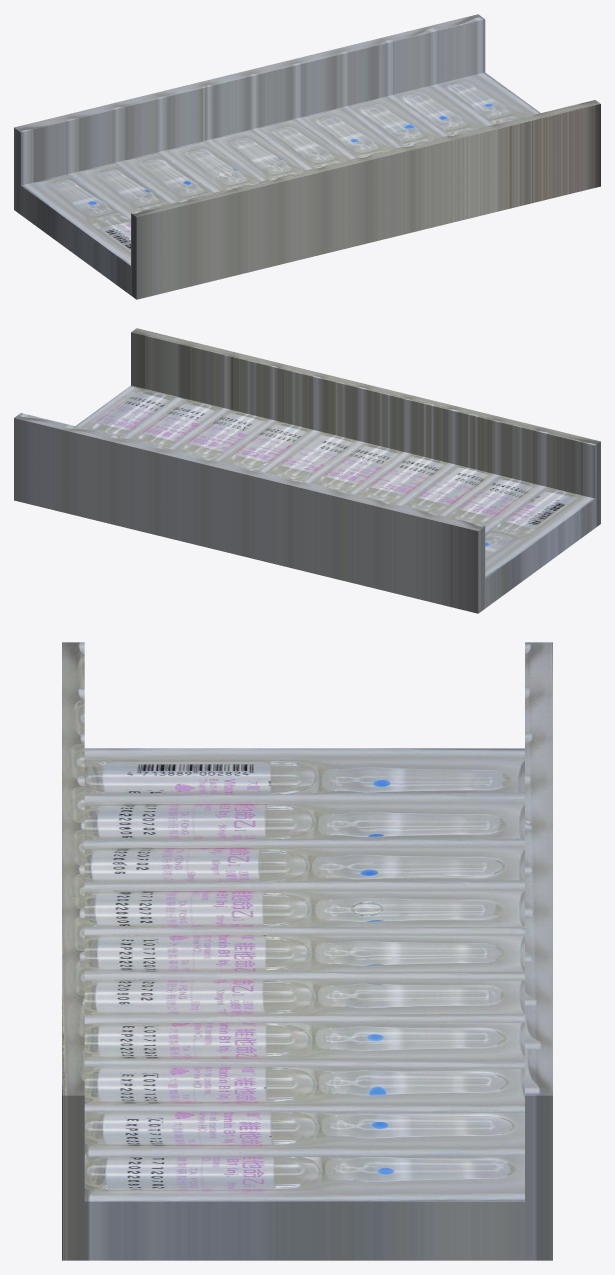
The picture shows the model from 3 angles, top to bottom: view 1: azimuth 30°, elevation 25°; view 2: azimuth 150°, elevation 25°; view 3: azimuth 270°, elevation 25°; orthographic projection. The views are drawn at different scales.
Parts seen in each view (by area): view 1: 立方體; view 2: 立方體; view 3: 立方體.
Boxes of the visible parts, box(x1,y1,x2,y2) form: 立方體: box(14, 14, 600, 299); 立方體: box(14, 328, 600, 613); 立方體: box(62, 642, 552, 1260).
Bounding box in the file's own units: 872 × 148 × 399.
Materials: 1 (1 with a texture image).
